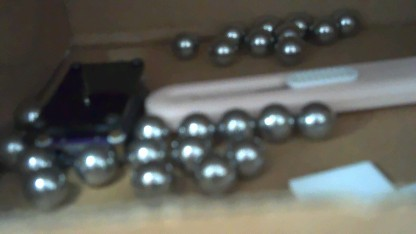ironball: (22, 173, 74, 208), (75, 147, 117, 186), (132, 161, 173, 199), (199, 153, 231, 194), (258, 104, 292, 138), (296, 95, 327, 132), (1, 131, 32, 166), (180, 112, 217, 137), (173, 138, 202, 168), (219, 109, 251, 136), (128, 139, 163, 163), (13, 100, 43, 128), (23, 151, 57, 175), (276, 37, 303, 67), (229, 143, 256, 169), (170, 29, 195, 57), (209, 40, 233, 68), (137, 114, 163, 138), (334, 10, 358, 34), (246, 31, 270, 55), (218, 24, 241, 45), (276, 20, 296, 43), (311, 18, 330, 40), (287, 11, 304, 33), (254, 12, 273, 30)
